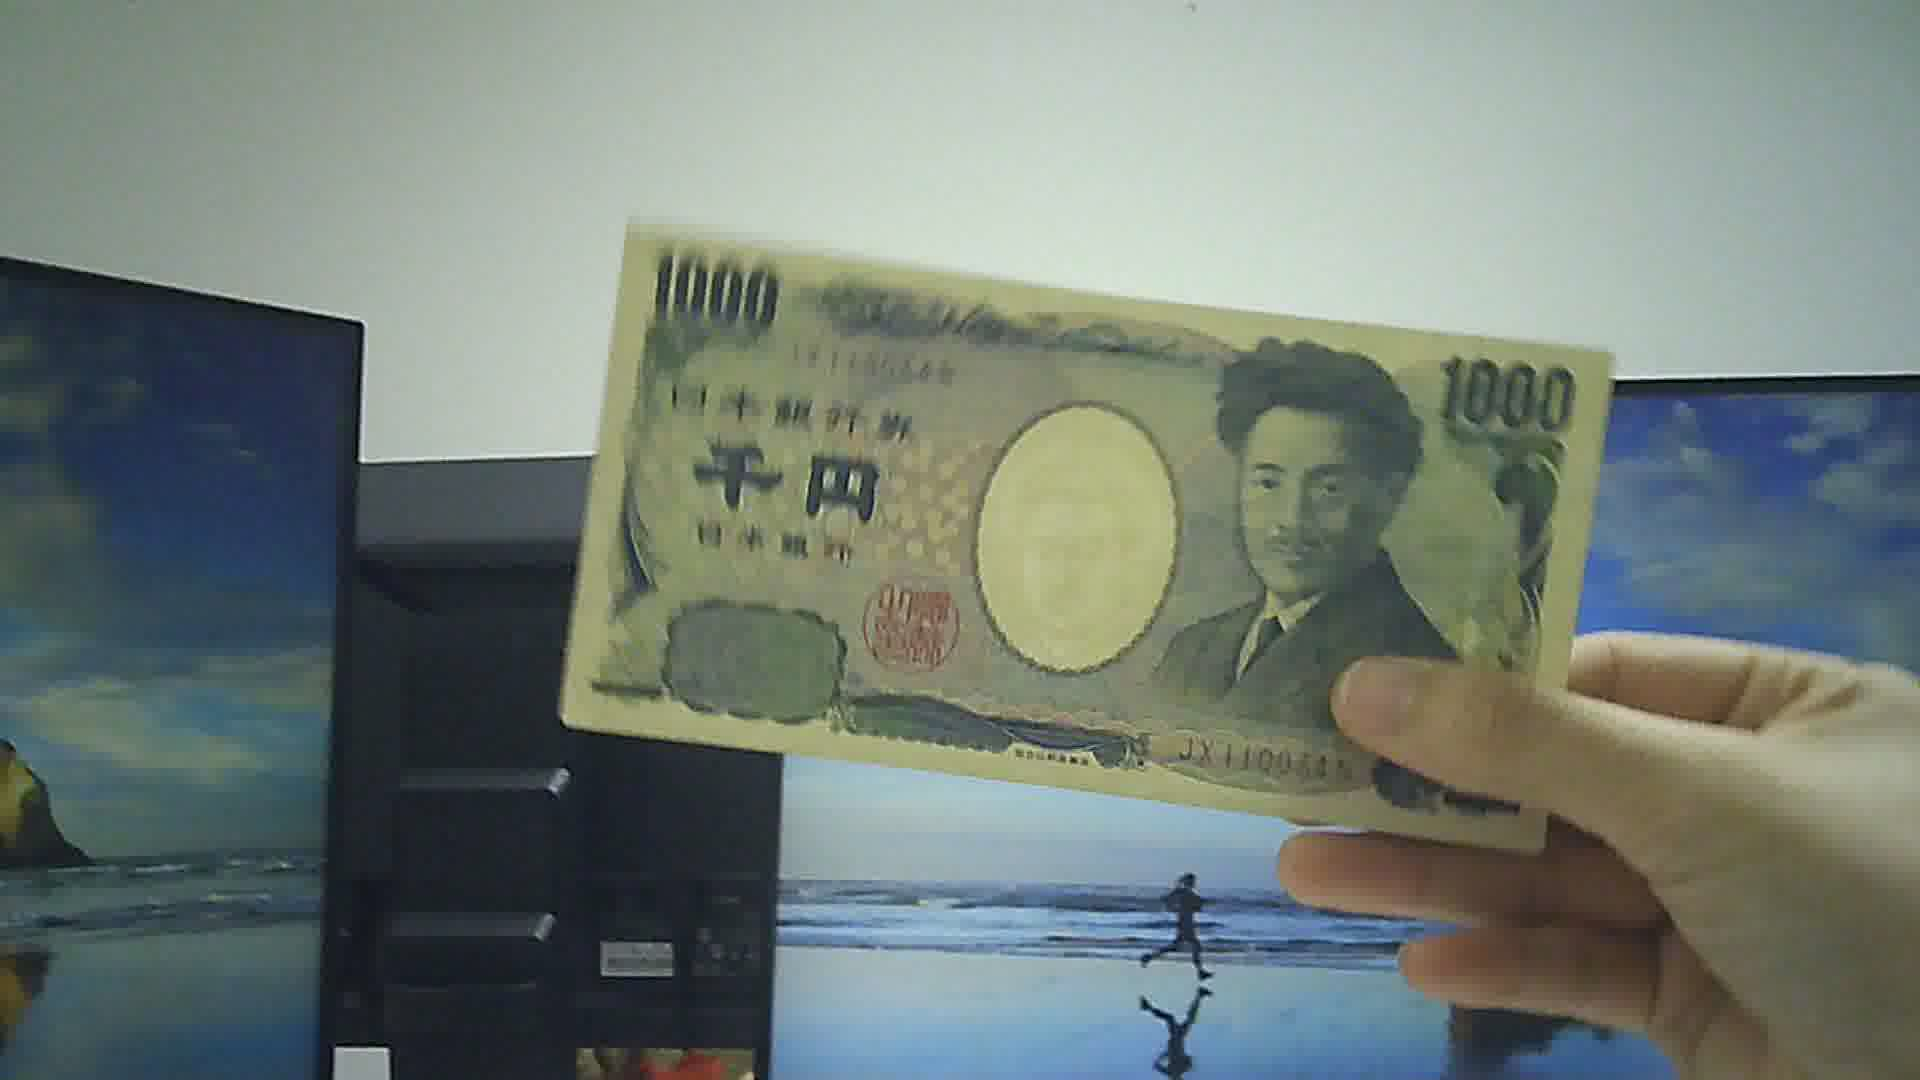1,000 Yen: (560, 219, 1611, 865)
